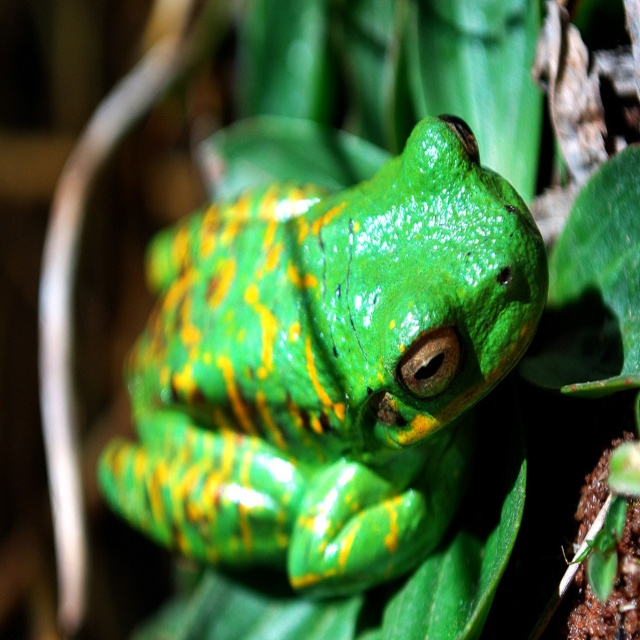Frog: (98, 113, 548, 602)
